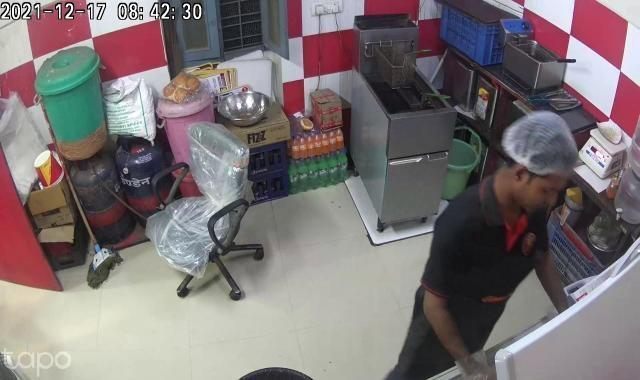apron: (447, 343, 500, 380)
gloves: (502, 110, 580, 178)
no_hairnet: (510, 176, 570, 226)
